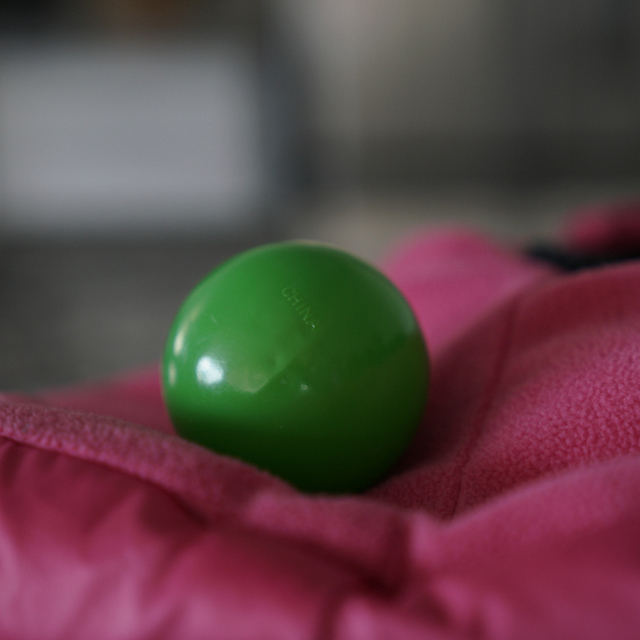Ball: (166, 242, 429, 496)
